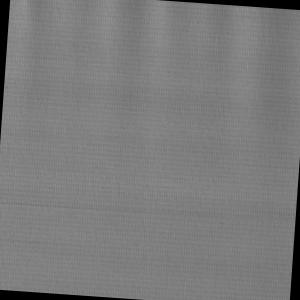Wrinkle: (2, 1, 300, 148), (1, 177, 298, 243), (1, 231, 131, 258)
